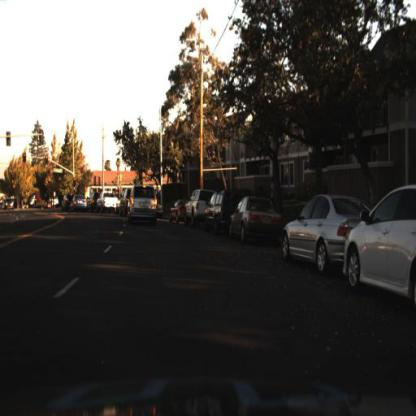car: (347, 184, 416, 310), (278, 191, 346, 285), (229, 195, 281, 251), (226, 195, 285, 244), (126, 186, 158, 228), (204, 188, 231, 234), (204, 186, 228, 234), (185, 191, 212, 229), (187, 191, 207, 227), (97, 192, 122, 217), (97, 190, 120, 213), (169, 196, 186, 225), (69, 194, 89, 214), (60, 192, 79, 213), (69, 191, 88, 212), (61, 193, 74, 216), (88, 190, 99, 217), (155, 194, 166, 221), (3, 197, 17, 218), (119, 190, 131, 213)
trafficLight-Red: (71, 173, 81, 191), (22, 150, 30, 166), (44, 154, 52, 168), (72, 176, 79, 189), (45, 154, 51, 168)
trafficLight-RedLeft: (22, 150, 30, 168)
